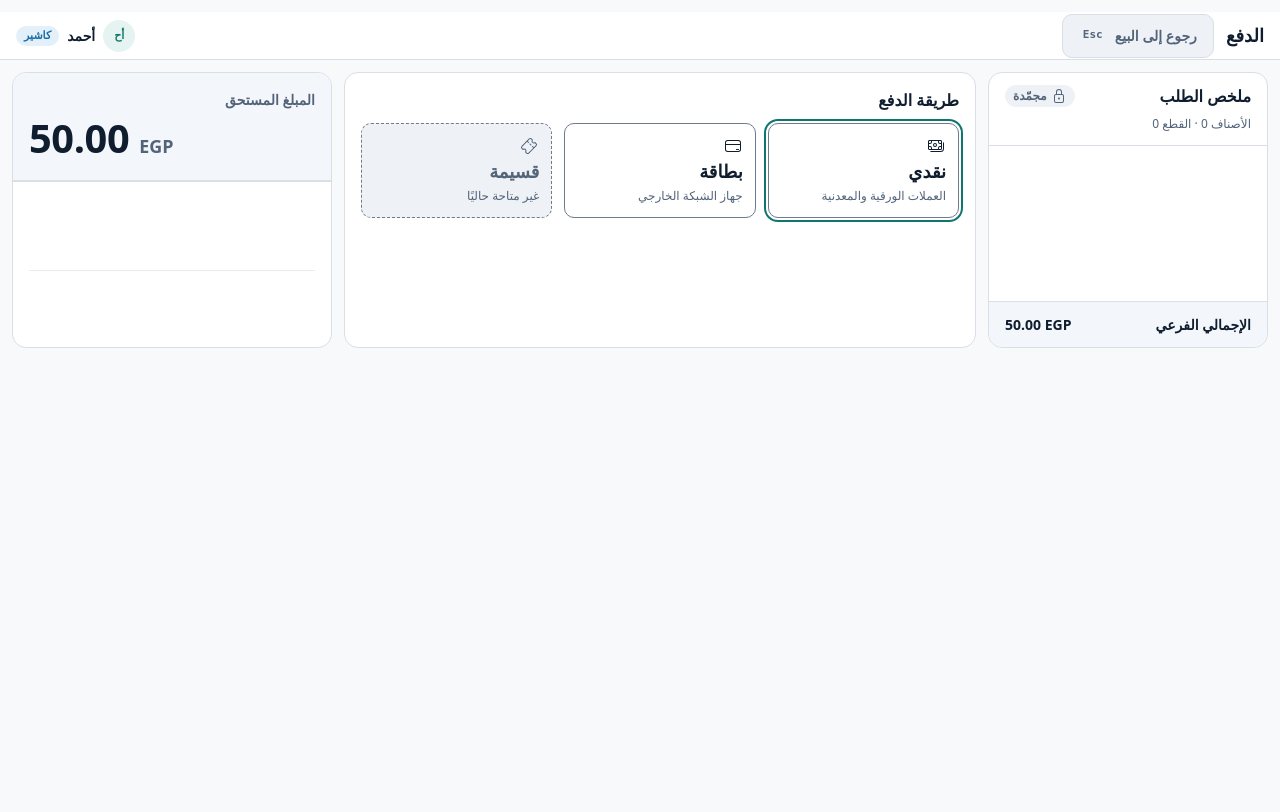
RT-256 — card cancel requires a terminal void before another charge (M-P13) › a cash-only cancel keeps the proven-reversal line (M-P2), not the card line
Click the radio button with test id "tender-cash": (863, 170) [768,123,959,218]
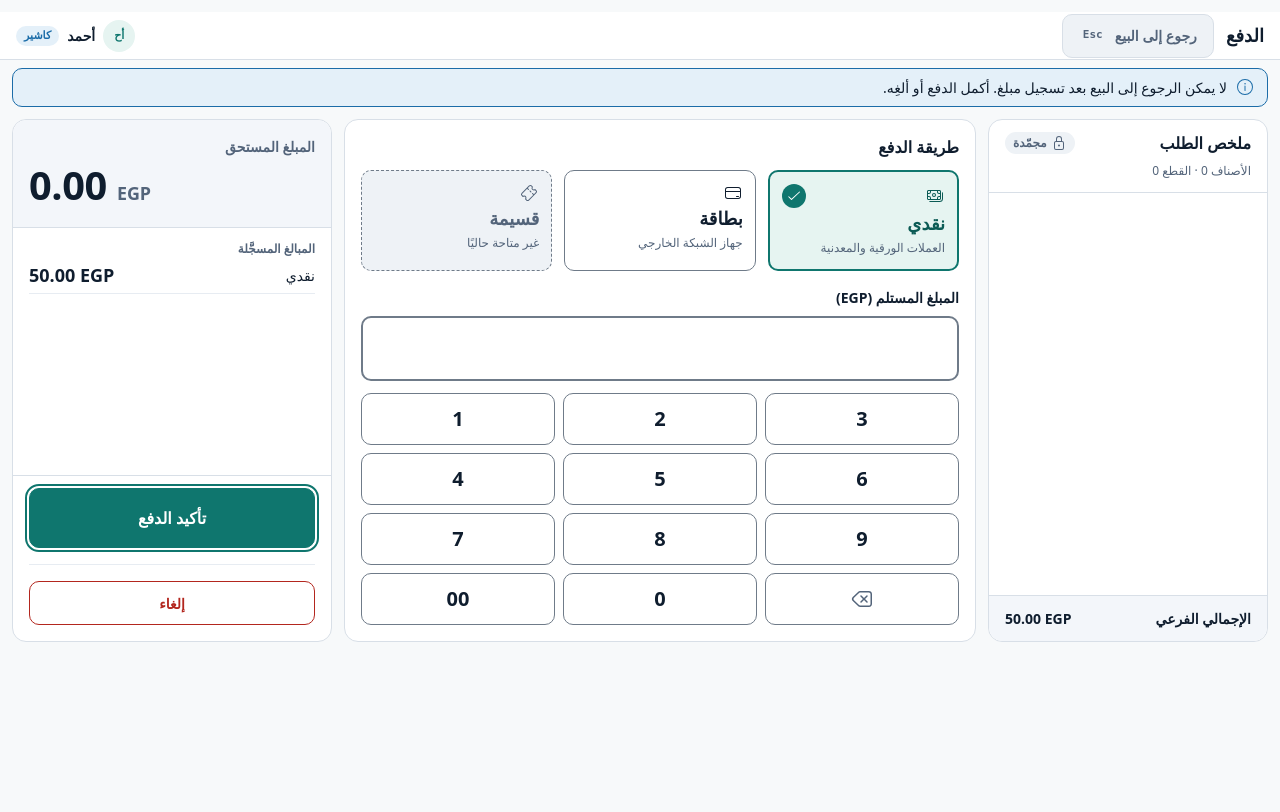
Click the button with test id "payment-surface-cancel": (172, 603) [29,581,315,625]
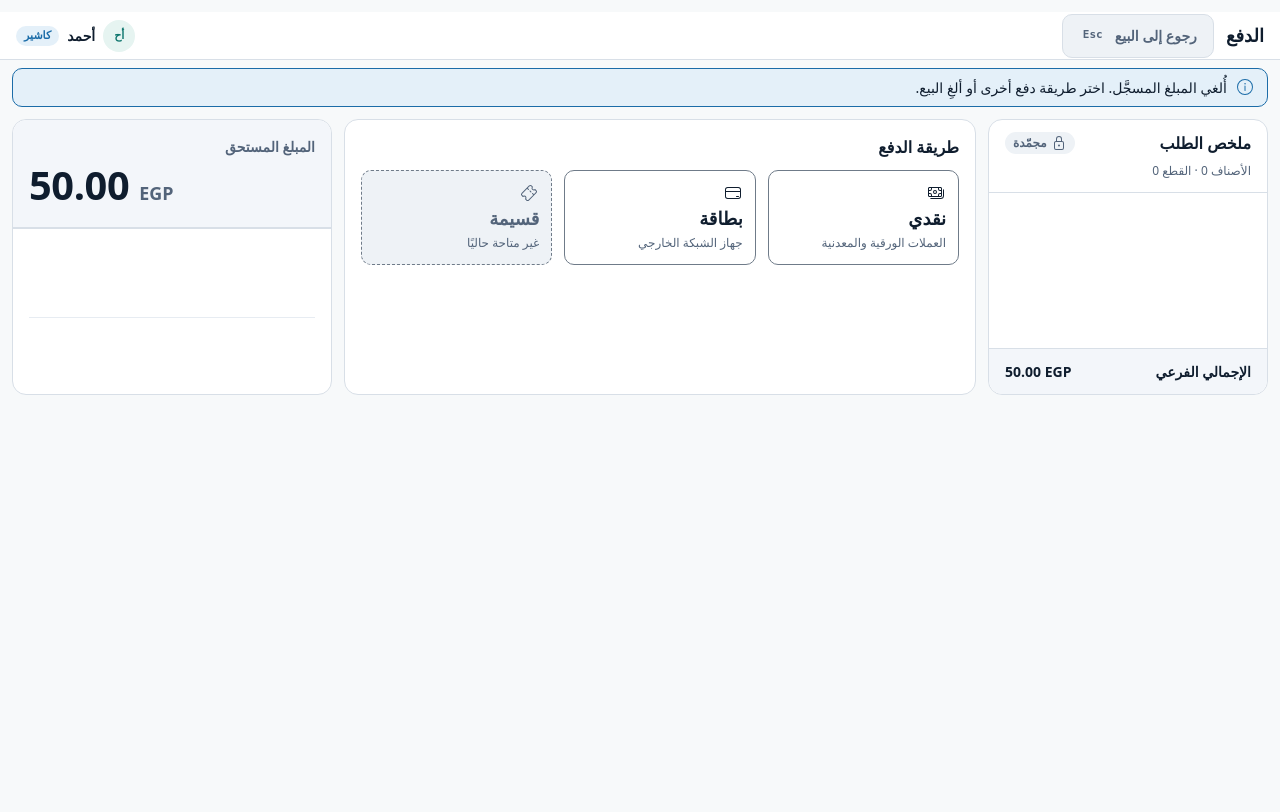
Expected: the element with test id "payment-surface-back-blocked" does not show "أُلغي الدفع هنا فقط. ألغِ العملية على جهاز البطاقات قبل أي خصم جديد.", [12,68,1268,107]
Now the element with test id "payment-surface-back-blocked" reads "أُلغي المبلغ المسجَّل. اختر طريقة دفع أخرى أو ألغِ البيع.", box [916,78,1227,97]
